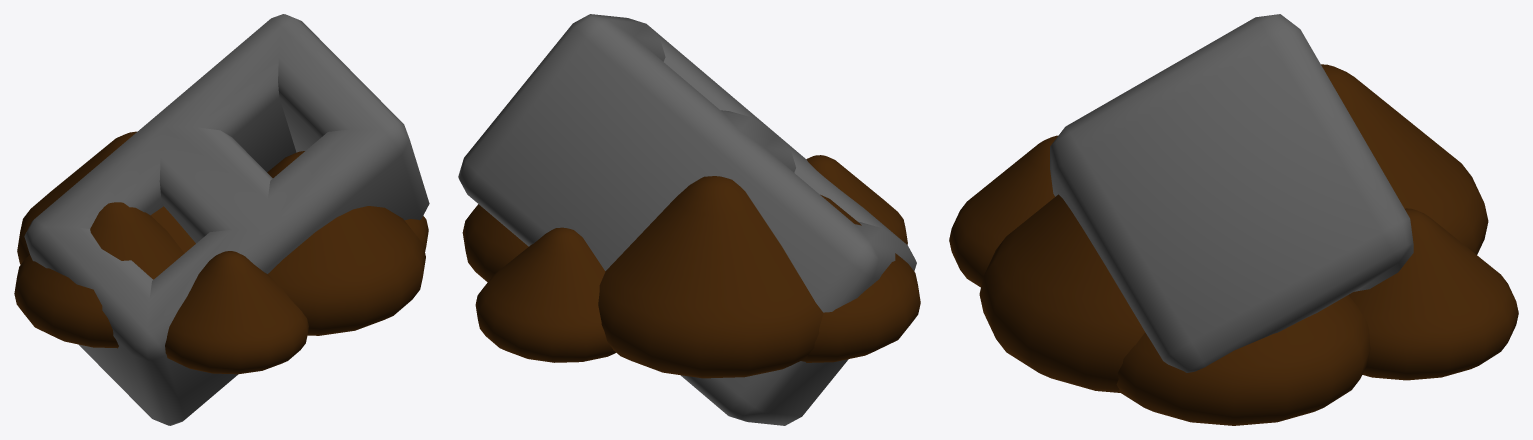
Rendered from LastLuna_Model_Node_Dirt_Concrete.fbx.
3 renders of one model, left to right at view 1: azimuth 30°, elevation 25°; view 2: azimuth 150°, elevation 25°; view 3: azimuth 270°, elevation 25°, orthographic. The views are drawn at different scales.
Visible parts, largest first — view 1: Concrete001, Soil_Pile004, Soil_Pile006, Soil_Pile001, Soil_Pile003, Soil_Pile002; view 2: Concrete001, Soil_Pile003, Soil_Pile005, Soil_Pile001, Soil_Pile002, Soil_Pile006; view 3: Concrete001, Soil_Pile004, Soil_Pile002, Soil_Pile005, Soil_Pile003, Soil_Pile006.
Boxes of the visible parts, bbox=[...] form: Concrete001: bbox=[24, 14, 429, 425]; Soil_Pile004: bbox=[267, 151, 425, 335]; Soil_Pile006: bbox=[165, 251, 308, 374]; Soil_Pile001: bbox=[14, 202, 184, 348]; Soil_Pile003: bbox=[17, 131, 195, 264]; Soil_Pile002: bbox=[404, 216, 428, 251]; Concrete001: bbox=[458, 14, 916, 425]; Soil_Pile003: bbox=[598, 176, 823, 378]; Soil_Pile005: bbox=[475, 227, 615, 362]; Soil_Pile001: bbox=[801, 194, 920, 362]; Soil_Pile002: bbox=[462, 204, 528, 282]; Soil_Pile006: bbox=[806, 155, 907, 244]; Concrete001: bbox=[1050, 14, 1413, 372]; Soil_Pile004: bbox=[979, 194, 1144, 392]; Soil_Pile002: bbox=[1116, 295, 1370, 425]; Soil_Pile005: bbox=[1349, 208, 1518, 380]; Soil_Pile003: bbox=[1321, 64, 1488, 254]; Soil_Pile006: bbox=[949, 135, 1057, 287].
Bounding box in the file's own units: 35.64 × 31.03 × 32.45.
